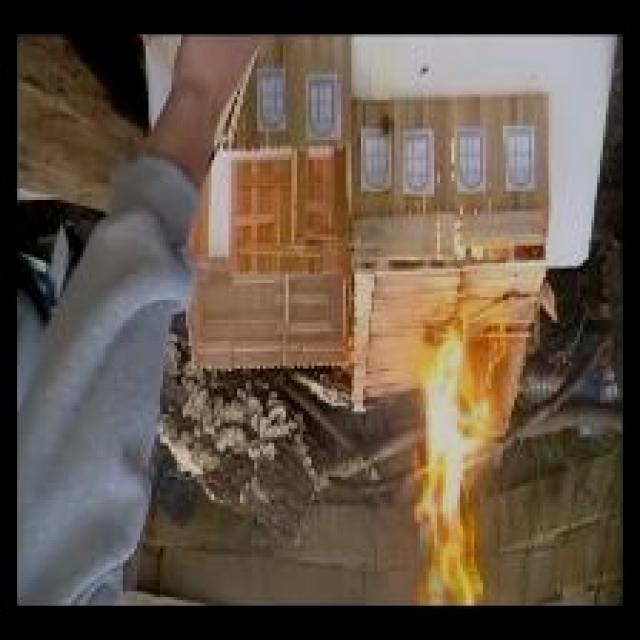fire: (386, 317, 534, 609)
